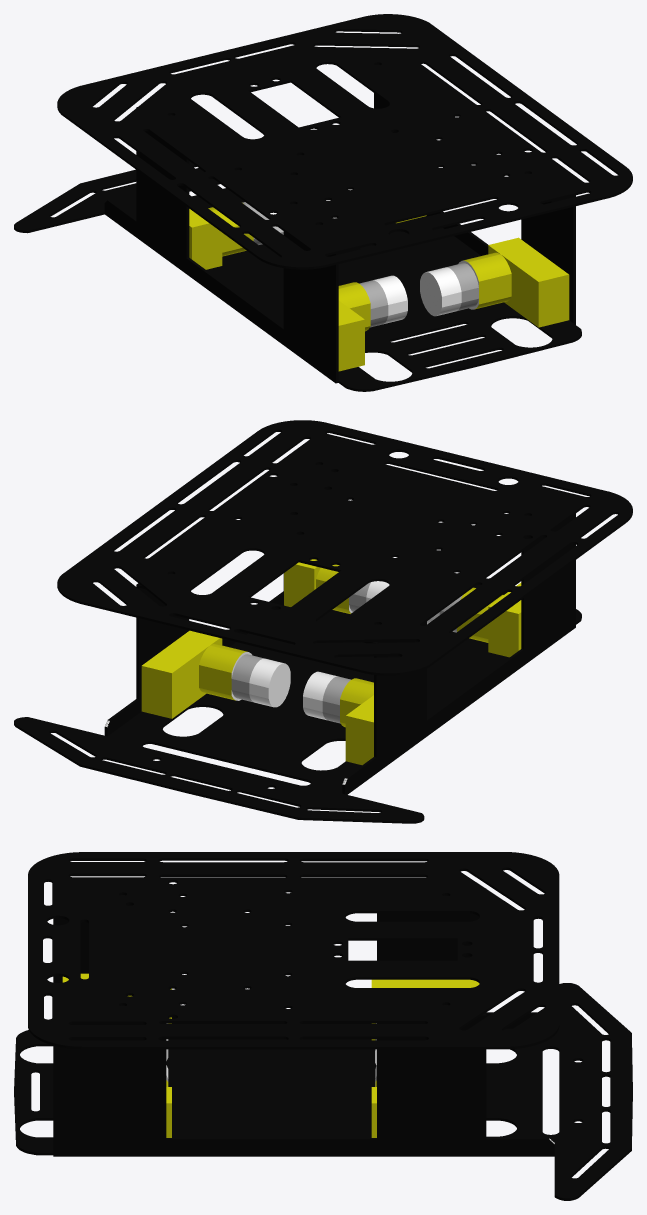
The model's file is chasis.dae.
3 renders of one model, top to bottom at view 1: azimuth 30°, elevation 25°; view 2: azimuth 150°, elevation 25°; view 3: azimuth 270°, elevation 25°, orthographic. The views are drawn at different scales.
Parts seen in each view (by area): view 1: SketchUp (×2), group_2 (×5), group_1 (×4), group_0; view 2: SketchUp (×2), group_3 (×5), group_0 (×4), group_1, group_2; view 3: SketchUp (×7), group_0.
Boxes of the visible parts, left/top/right/bottom form: SketchUp (×2): left=14, top=14, right=632, bottom=391; group_2 (×5): left=420, top=237, right=569, bottom=327; group_1 (×4): left=338, top=275, right=407, bottom=371; group_0: left=192, top=223, right=222, bottom=269; SketchUp (×2): left=14, top=420, right=632, bottom=823; group_3 (×5): left=141, top=630, right=290, bottom=718; group_0 (×4): left=303, top=671, right=373, bottom=765; group_1: left=488, top=606, right=518, bottom=657; group_2: left=284, top=564, right=314, bottom=606; SketchUp (×7): left=14, top=852, right=632, bottom=1200; group_0: left=371, top=979, right=479, bottom=1040.
Bounding box in the file's own units: 73.48 × 89.15 × 22.83.
